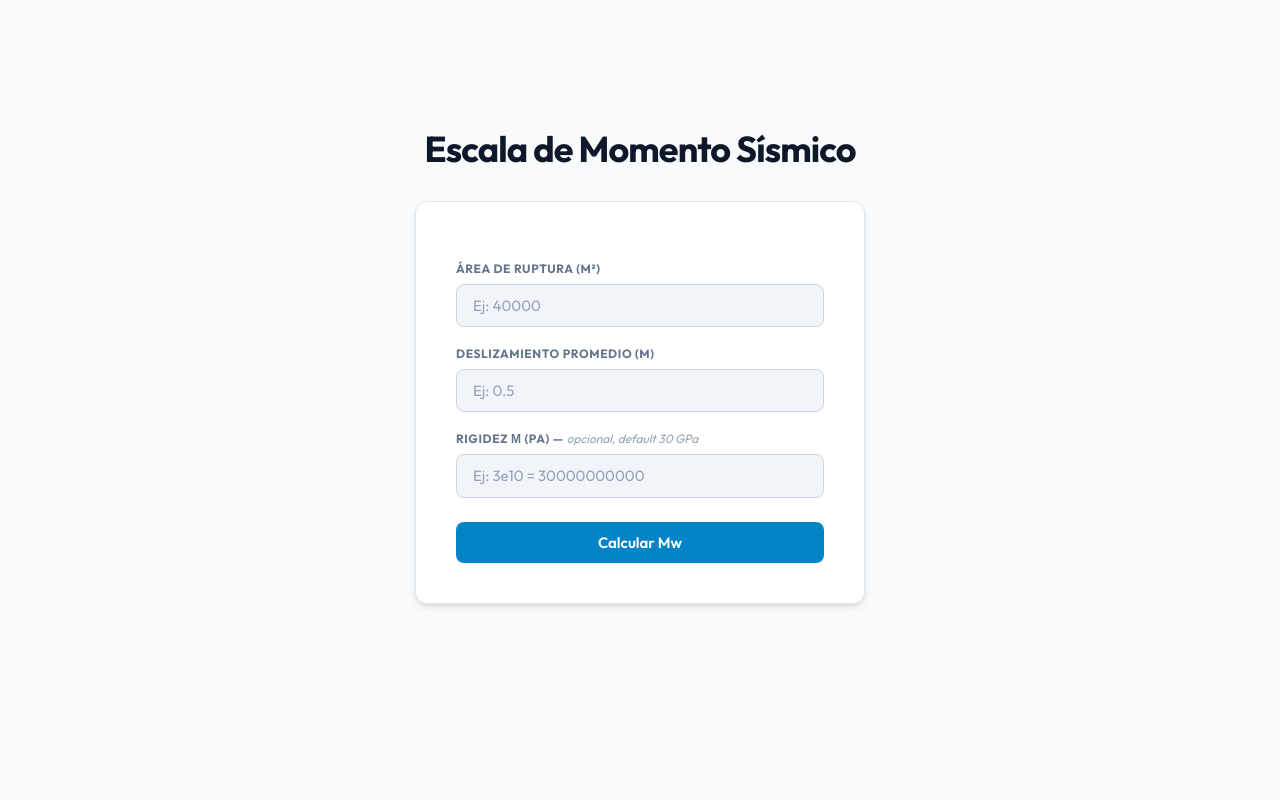
MomentoCalculator Component › debería habilitar el botón y mostrar resultados en submit
This screenshot has width=1280, height=800.
Type "40000" into the number field labelled "Área de ruptura (m²)". click: (640, 306)
box: [456, 284, 824, 328]
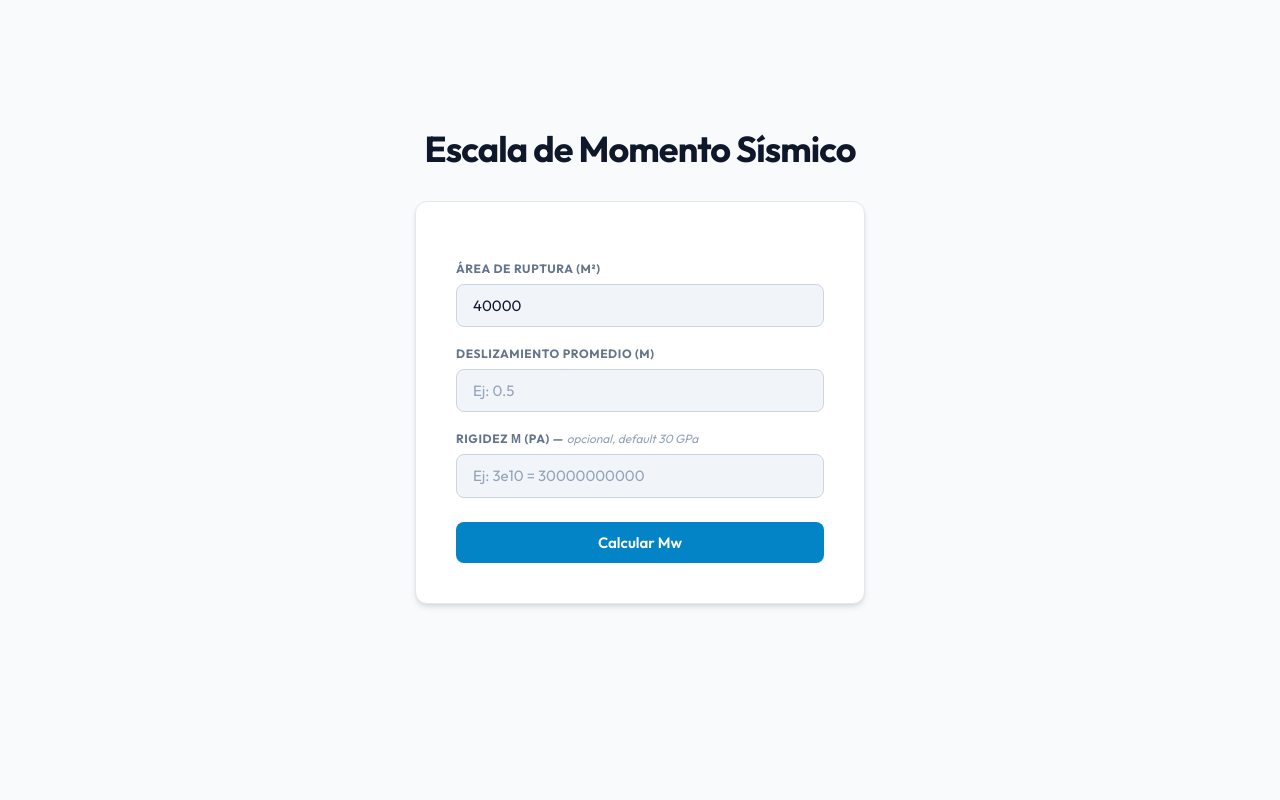
Type "2.5" into the number field labelled "Deslizamiento promedio (m)". click: (640, 391)
box: [456, 369, 824, 412]
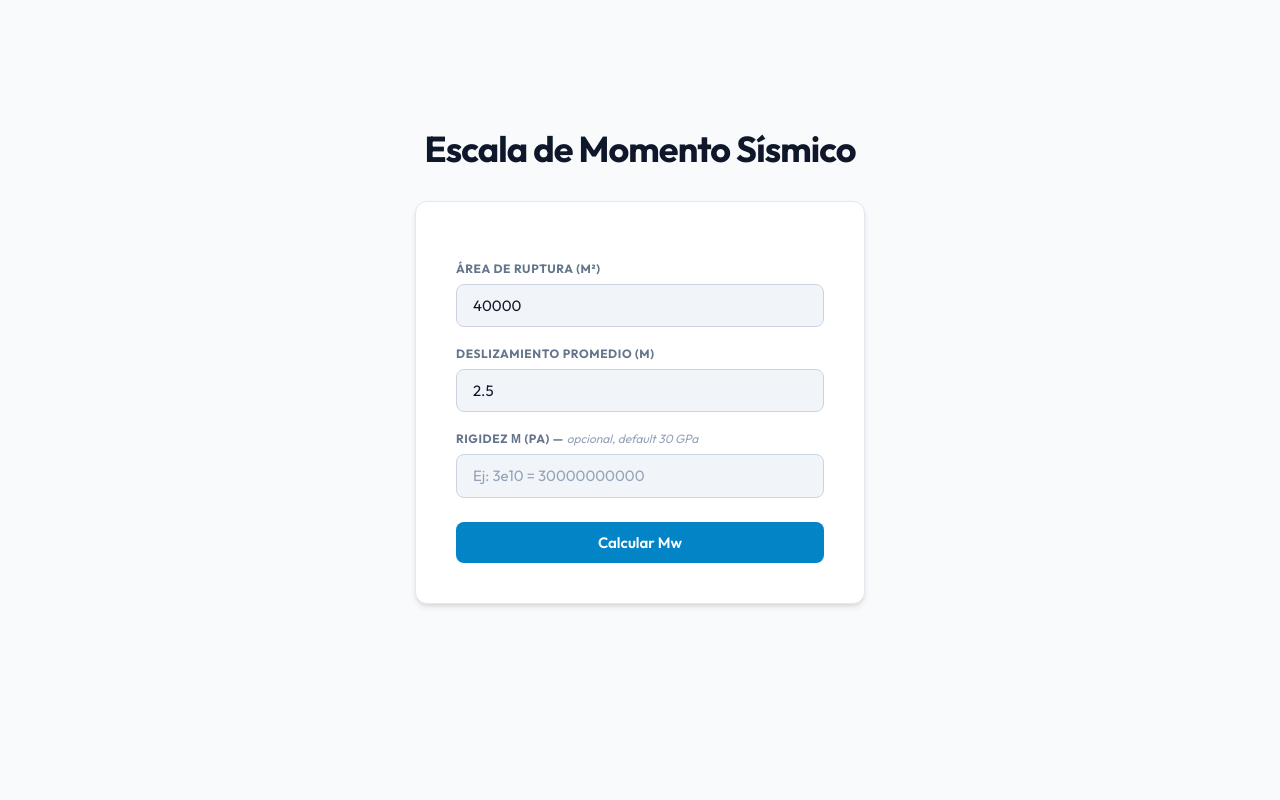
# Simula cálculo
Click the button "Calcular Mw". click: (640, 542)
box: [456, 522, 824, 563]
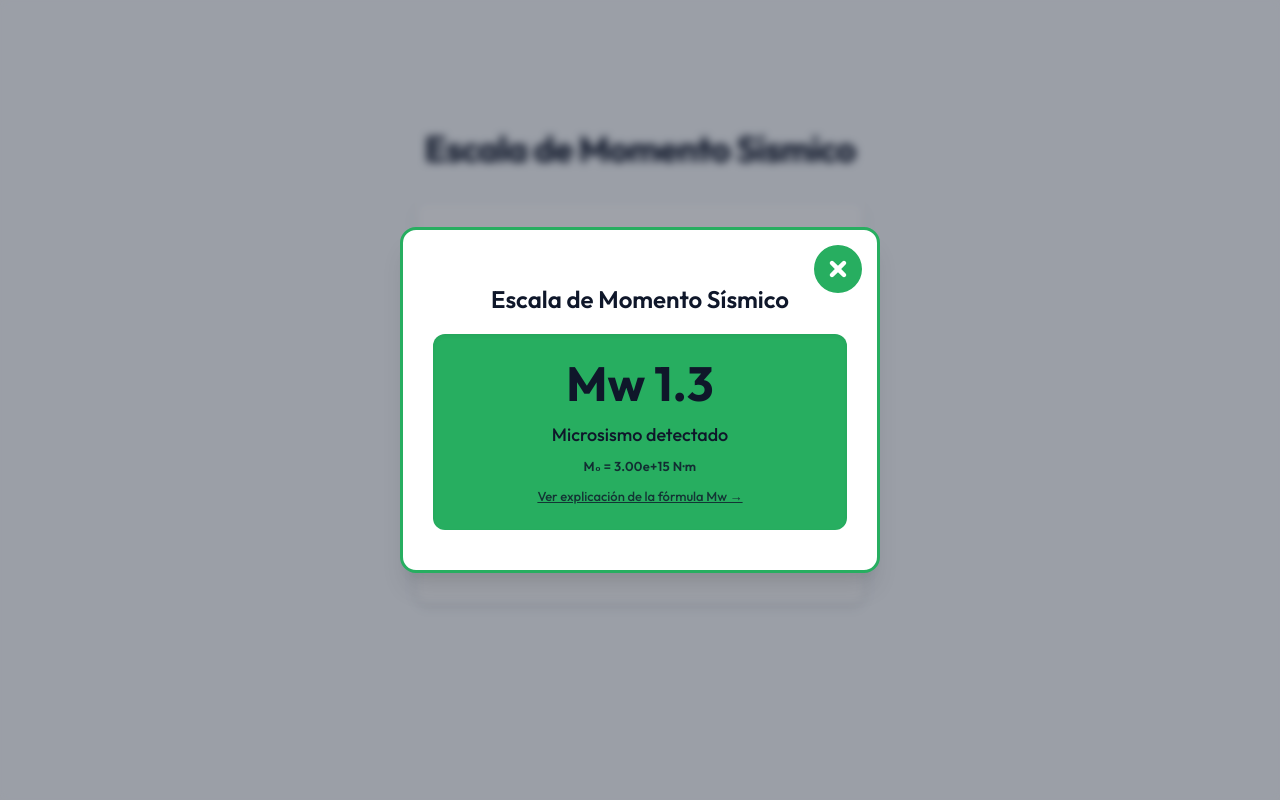
Expected: the text "Mw 1.3" is shown, [566, 353, 714, 413]
